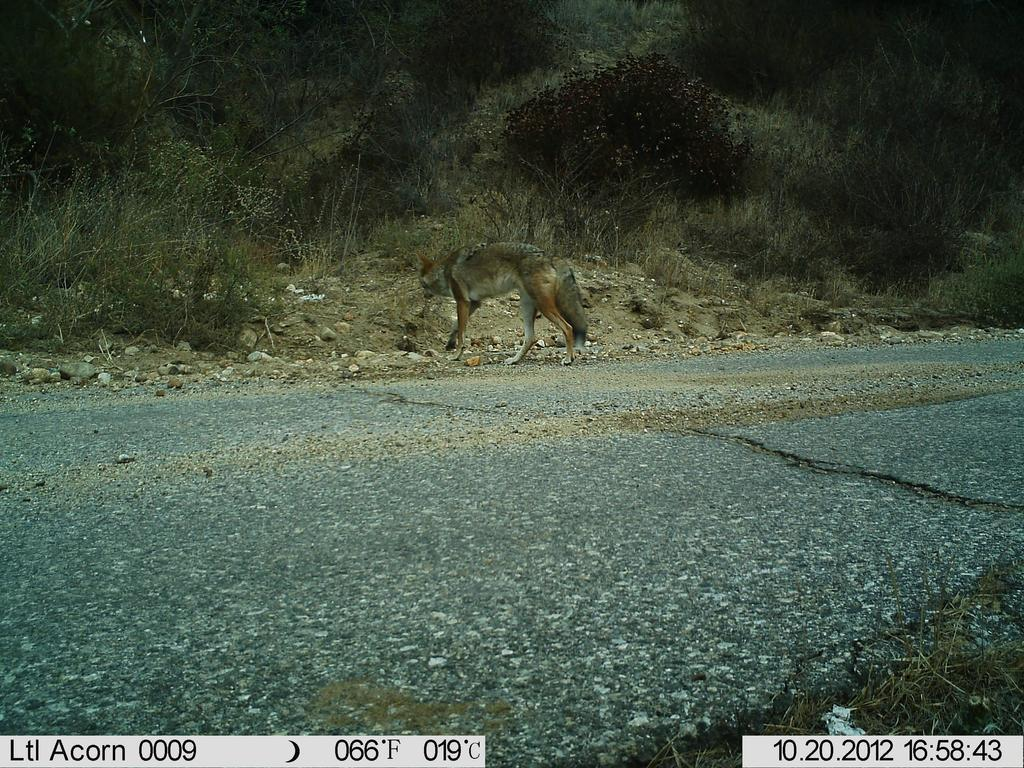coyote: (397, 232, 606, 385)
